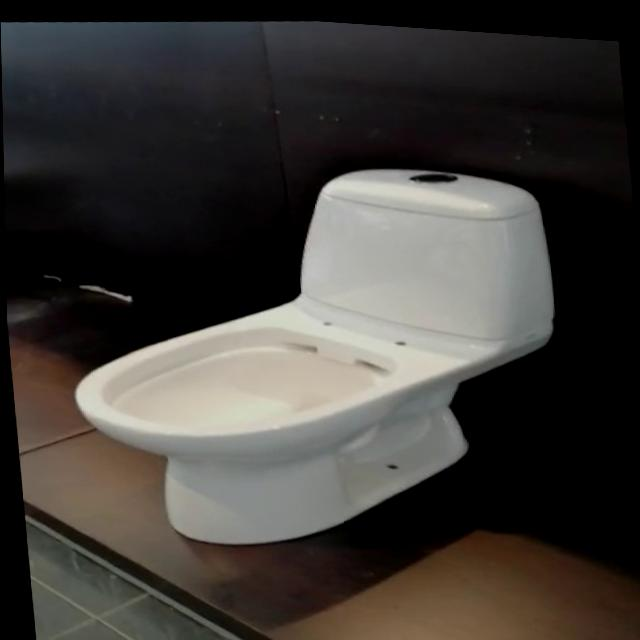toilet: (51, 132, 576, 570)
